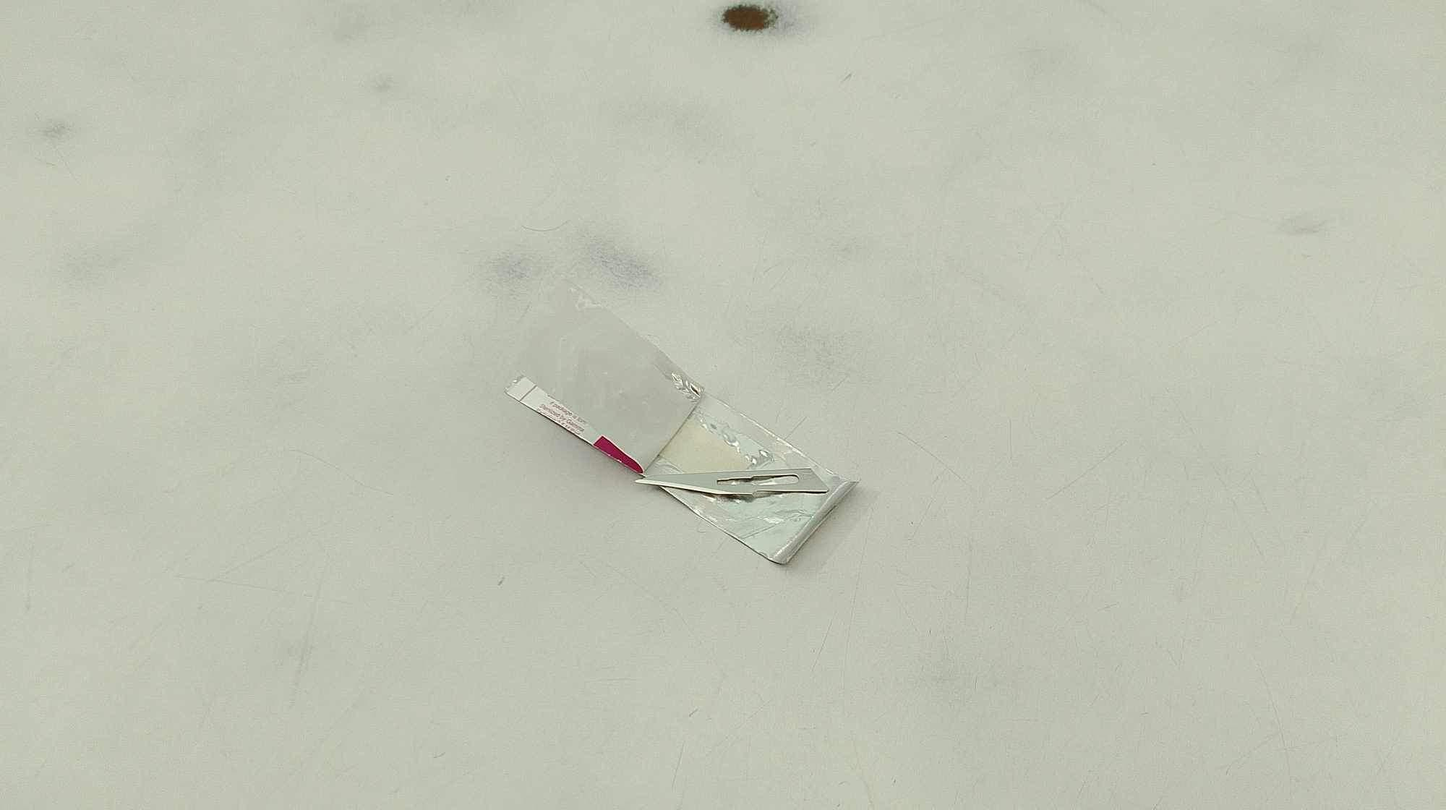General: (6, 4, 1438, 804), (500, 275, 861, 568), (634, 389, 860, 568)
Sharps: (502, 372, 829, 503)
